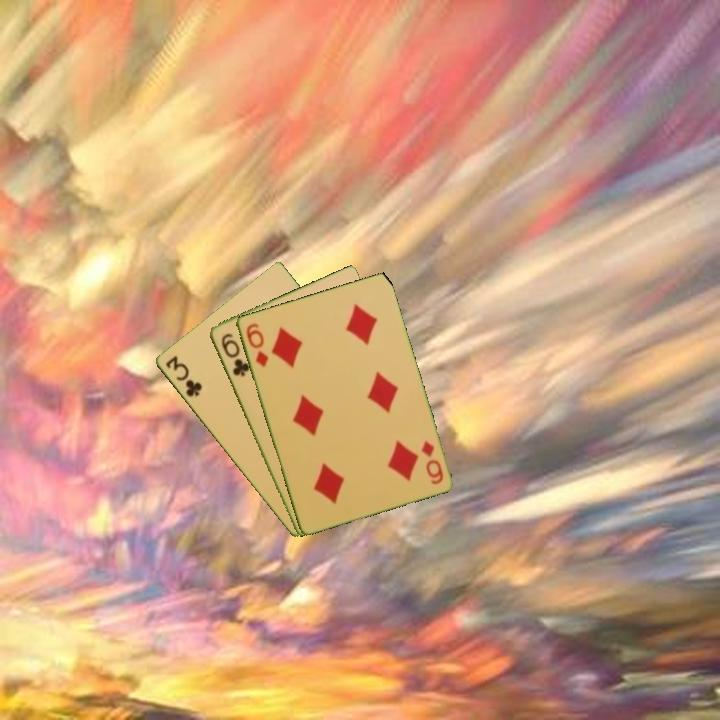3c: (161, 352, 205, 400)
6c: (217, 329, 252, 380)
6d: (242, 319, 271, 370), (417, 437, 446, 487)
